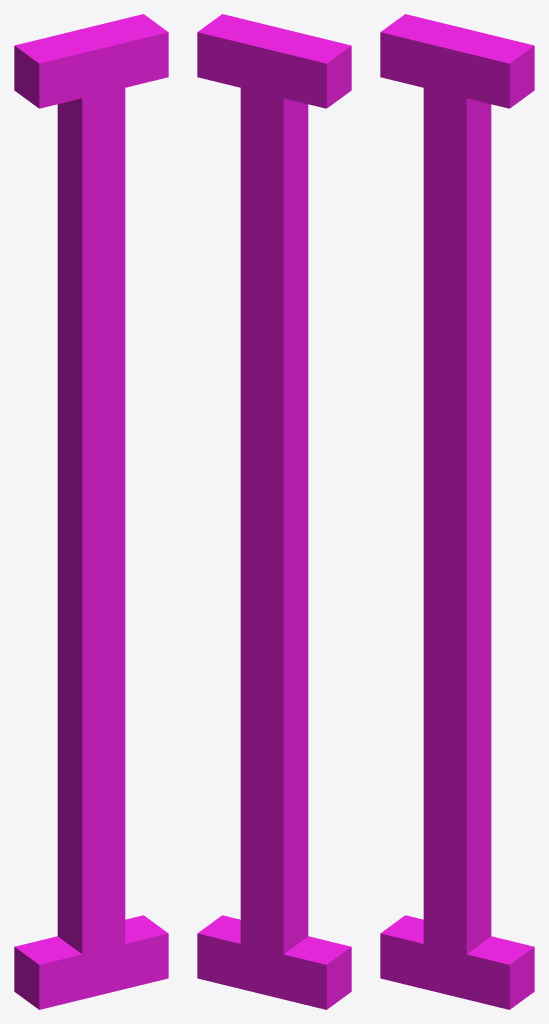
Rendered from DoorLight.obj.
The picture shows the model from 3 angles, left to right: view 1: azimuth 30°, elevation 25°; view 2: azimuth 150°, elevation 25°; view 3: azimuth 330°, elevation 25°; orthographic projection.
Bounding box in the file's own units: 0.3 × 2.1 × 0.1.
1 material, 1 textured.
